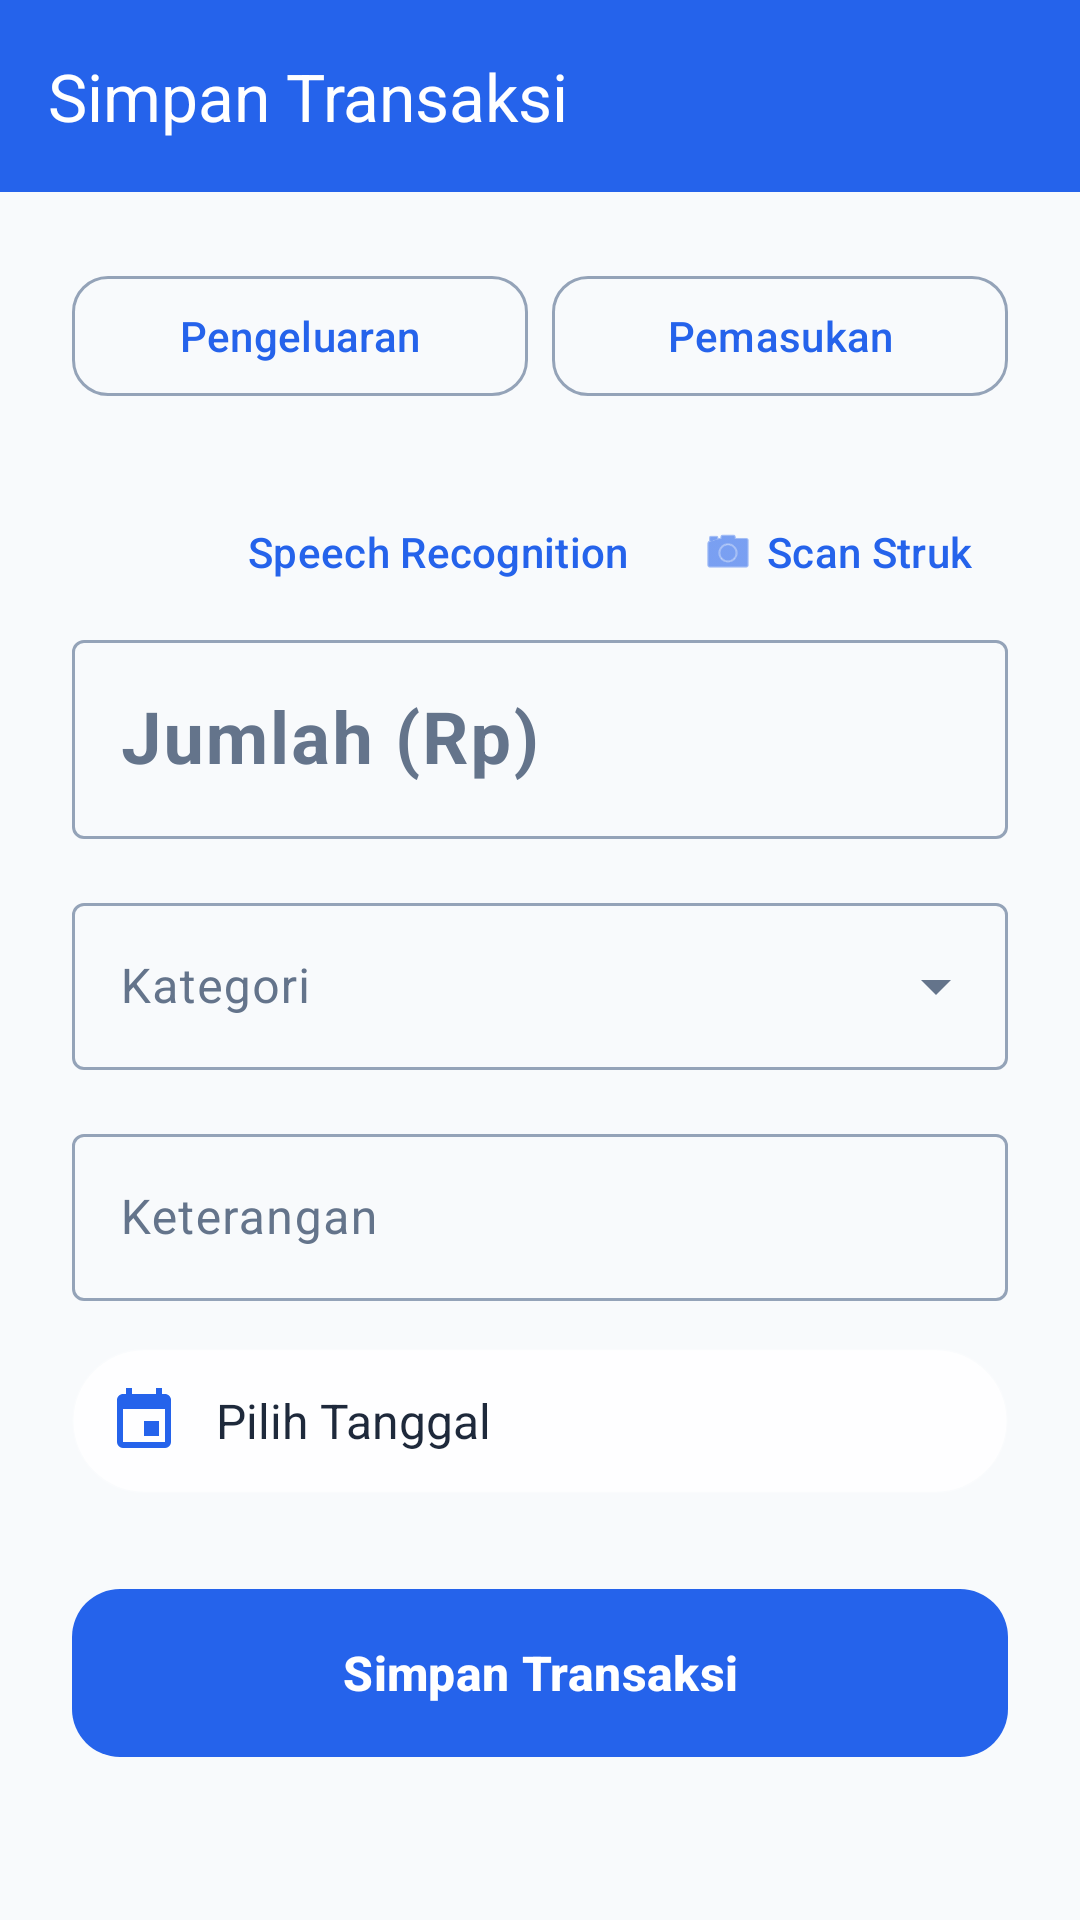

Where icons sit on this 1080px x 1920px app screen, as (x1, y1, x2, y2):
Ikon Kalender: (117, 1388, 171, 1448)
